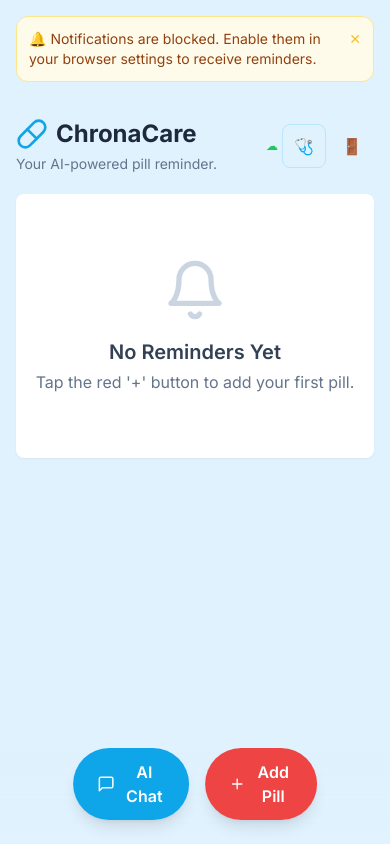
Test case: App userId wiring to AddPillModal › passes userId to AddPillModal - consent works correctly
Step 1. Click the button "Add Pill" → coordinates (261, 784), box [206, 748, 317, 820]
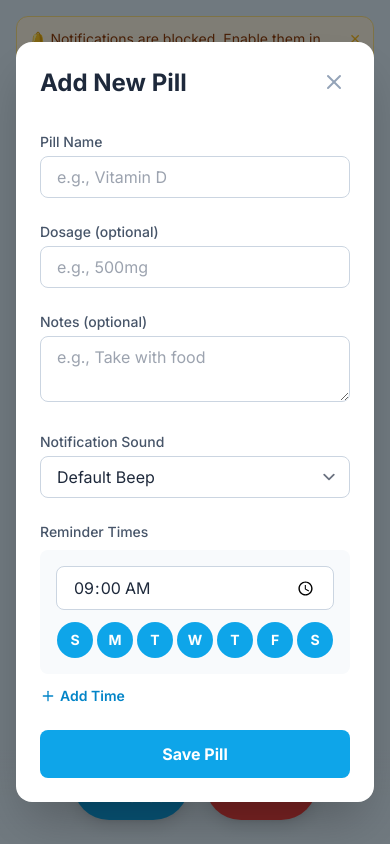
Expected: the field labelled "Pill Name" is shown
Step 2. Type "Aspirin" into the field labelled "Pill Name" → coordinates (195, 177), box [40, 156, 350, 198]
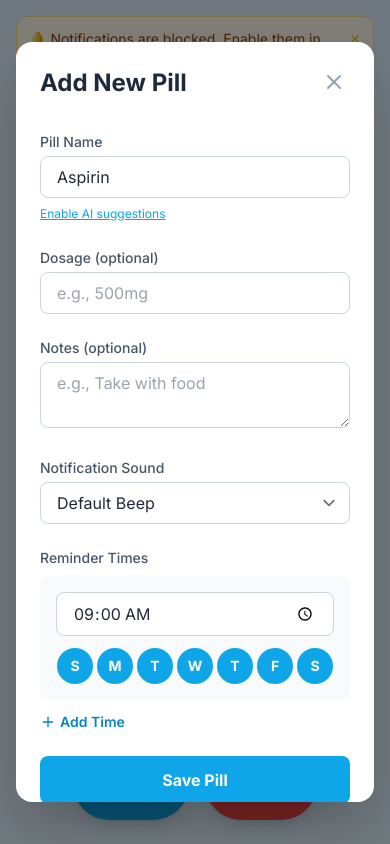
Expected: the button "Enable AI suggestions" is shown, [40, 206, 166, 222]
